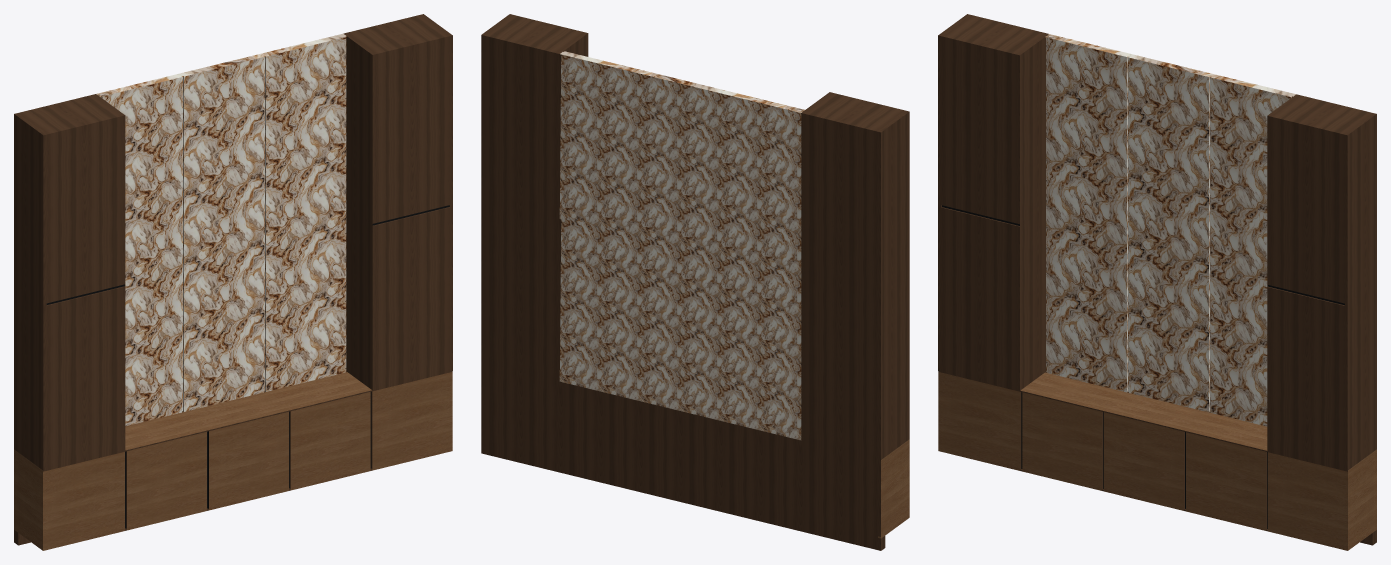
The model's file is Office-Wall-29.glb.
The picture shows the model from 3 angles, left to right: view 1: azimuth 30°, elevation 25°; view 2: azimuth 150°, elevation 25°; view 3: azimuth 330°, elevation 25°; orthographic projection. The views are drawn at different scales.
Parts seen in each view (by area): view 1: Wall.011; view 2: Wall.011; view 3: Wall.011.
Boxes of the visible parts, x1,y1,x2,y2 form: Wall.011: (14, 14, 452, 550); Wall.011: (481, 14, 909, 550); Wall.011: (938, 14, 1376, 550).
Bounding box in the file's own units: 10 × 10 × 1.24.
Materials: 4 (3 with a texture image).
